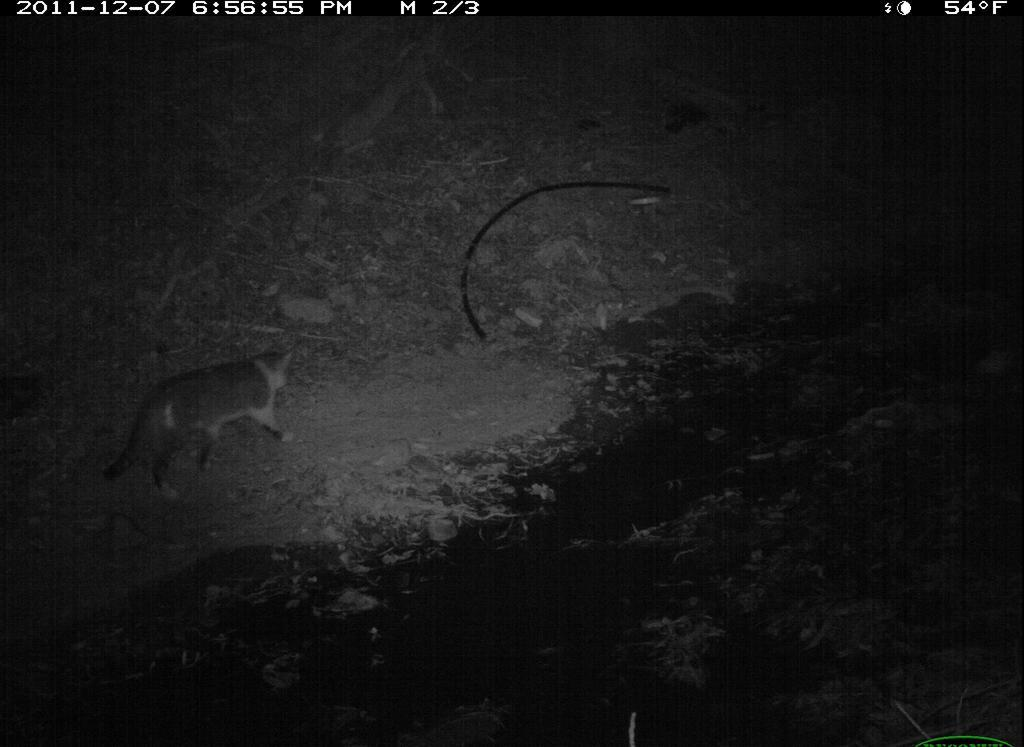cat: (116, 315, 358, 516)
